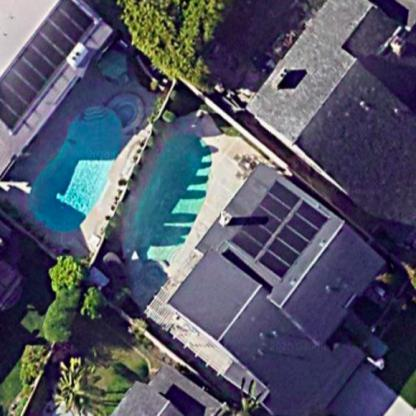solar_panel: (1, 12, 124, 141), (232, 168, 330, 283)
swimming_pool: (25, 89, 170, 240), (131, 113, 218, 274)
